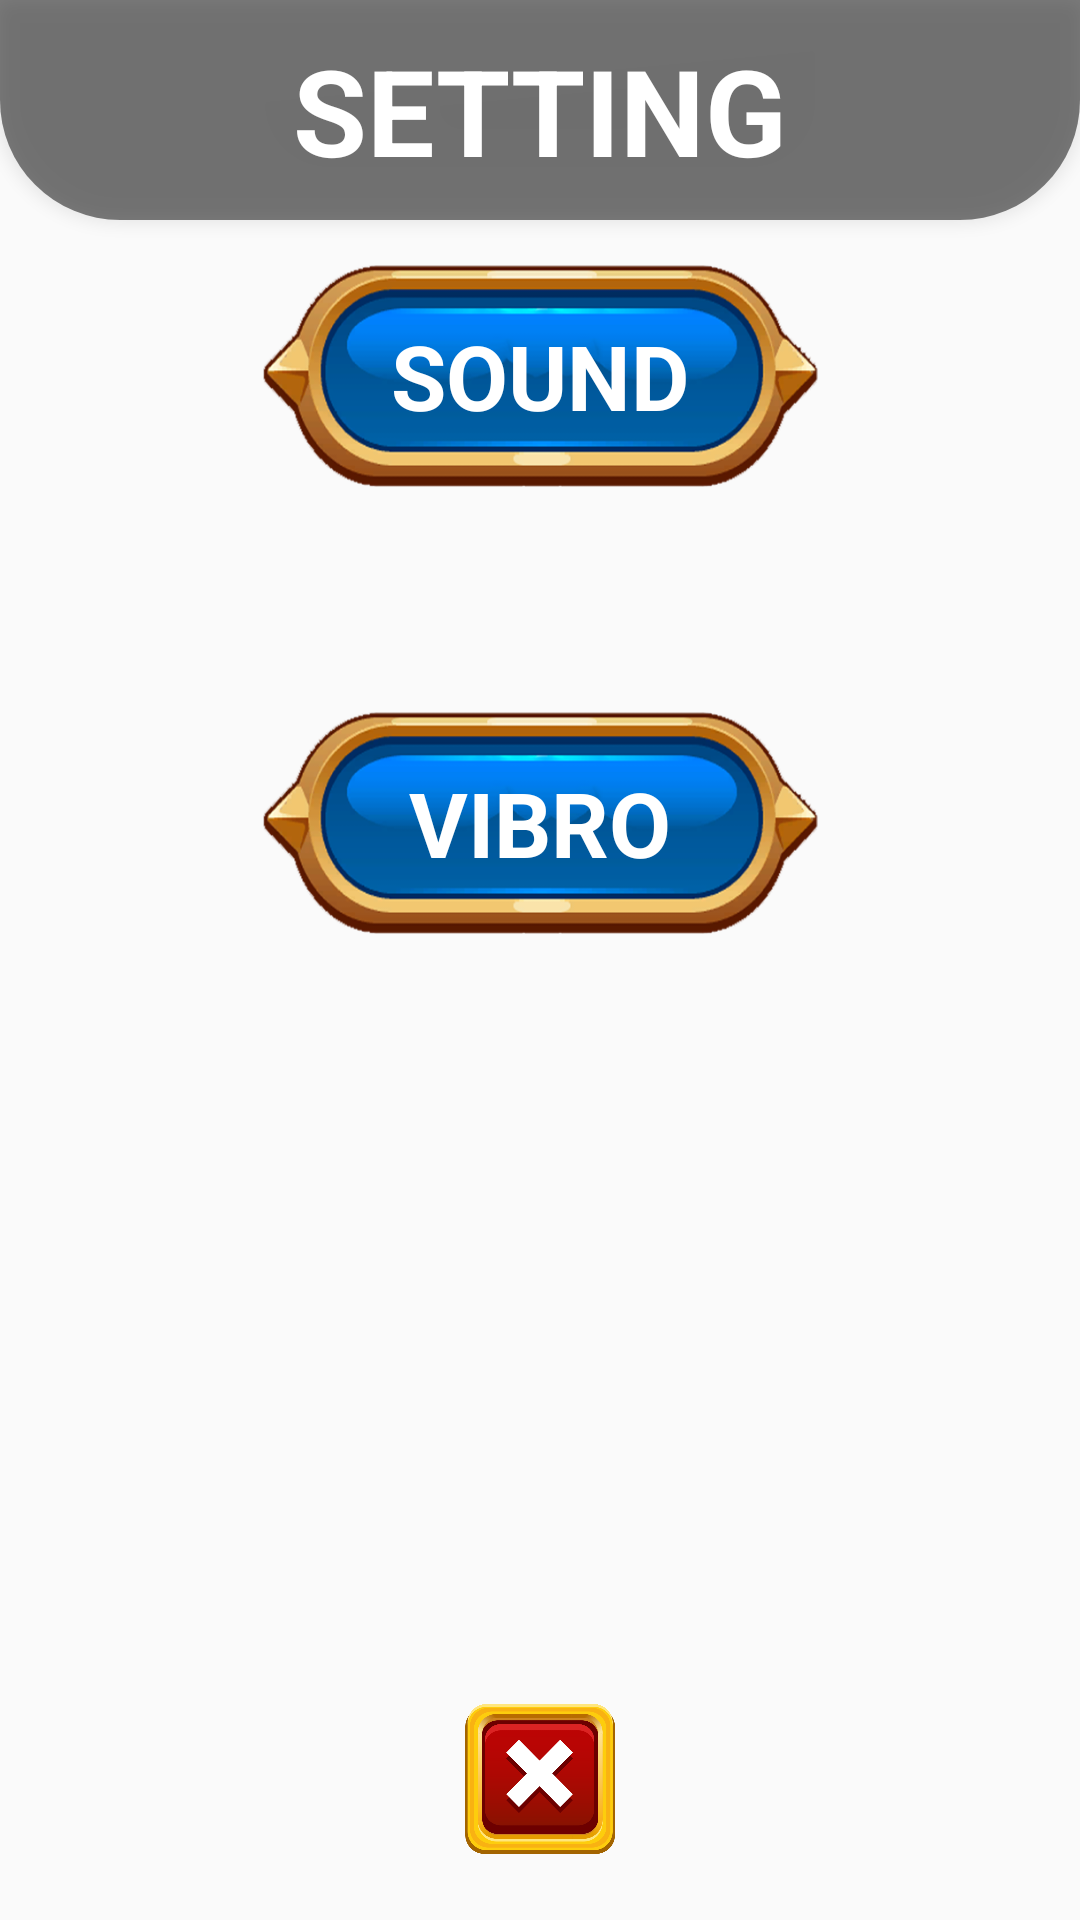

Named icons in this screenshot (1080x1920) and their bounding boxes, (x1,y1,x2,y2):
close: (465,1704,615,1854)
